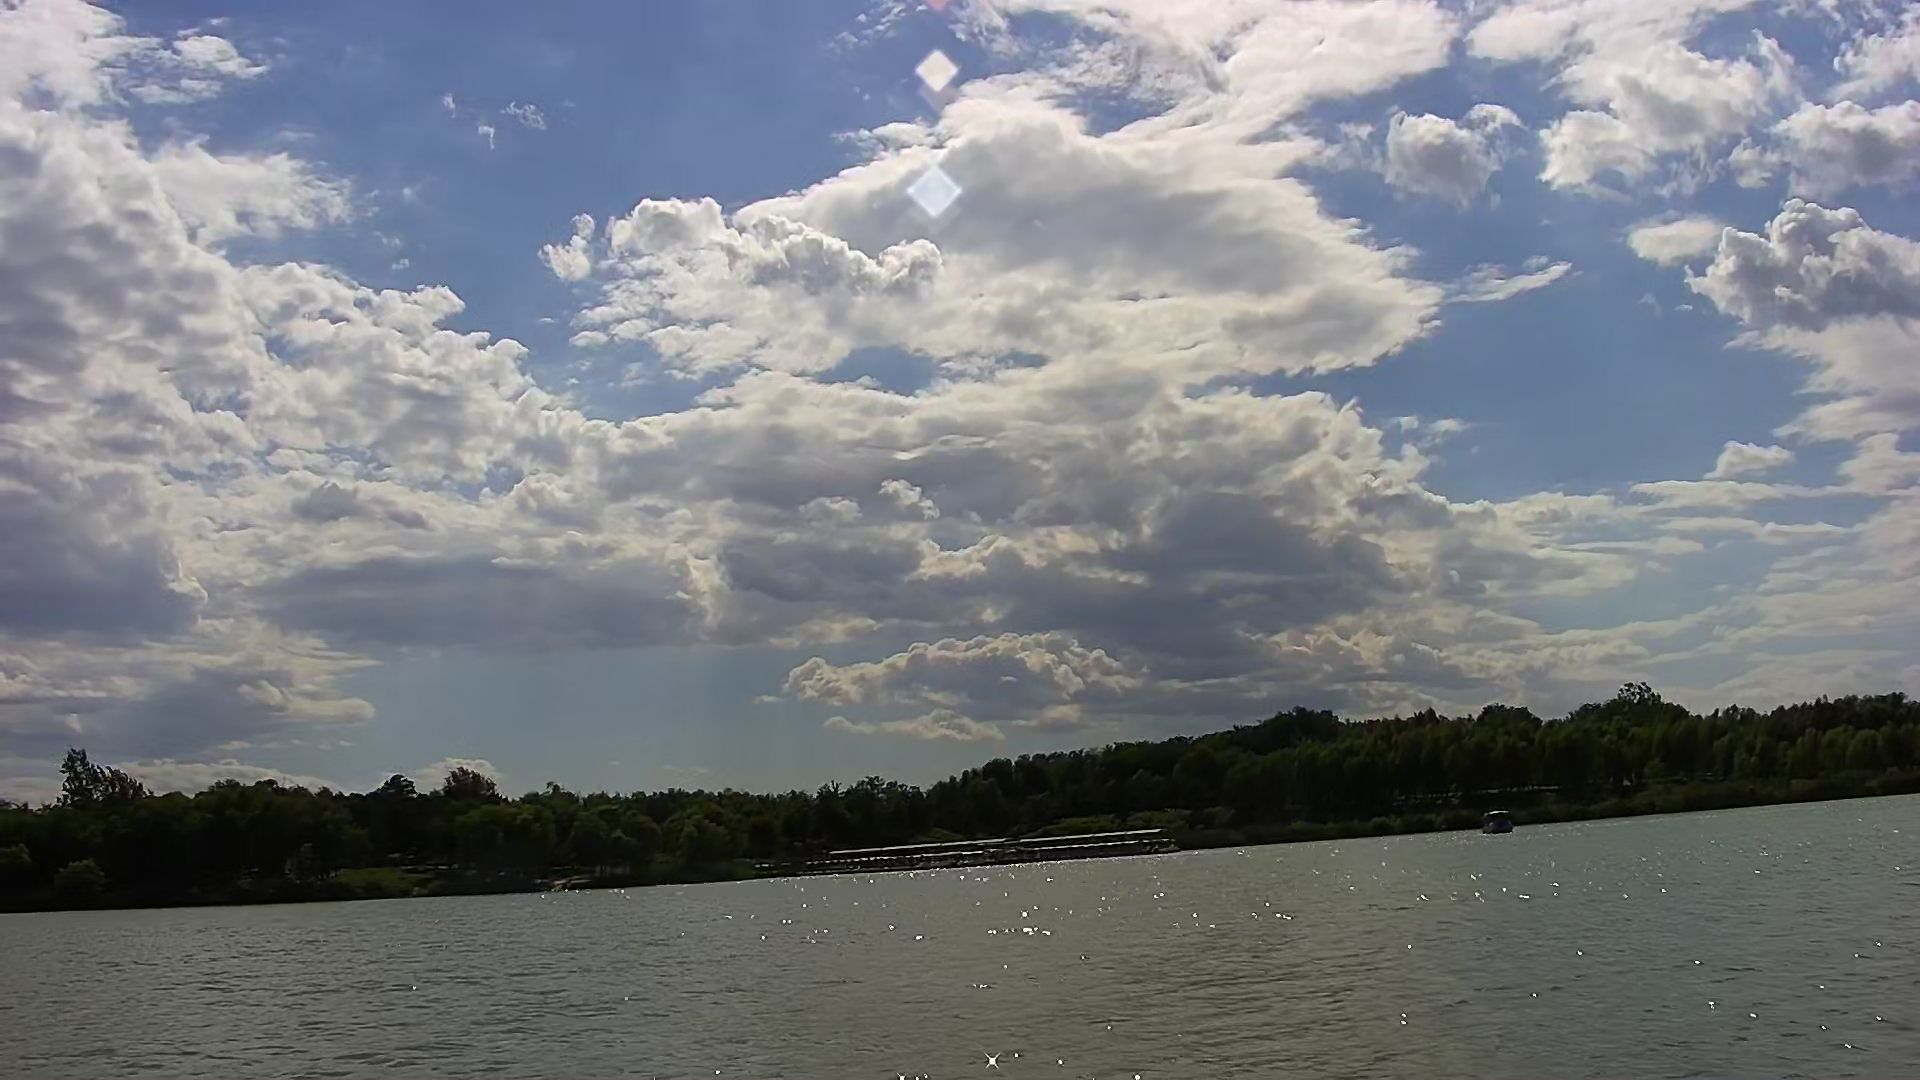boat: (1482, 808, 1510, 837)
harbor: (819, 829, 1168, 864)
